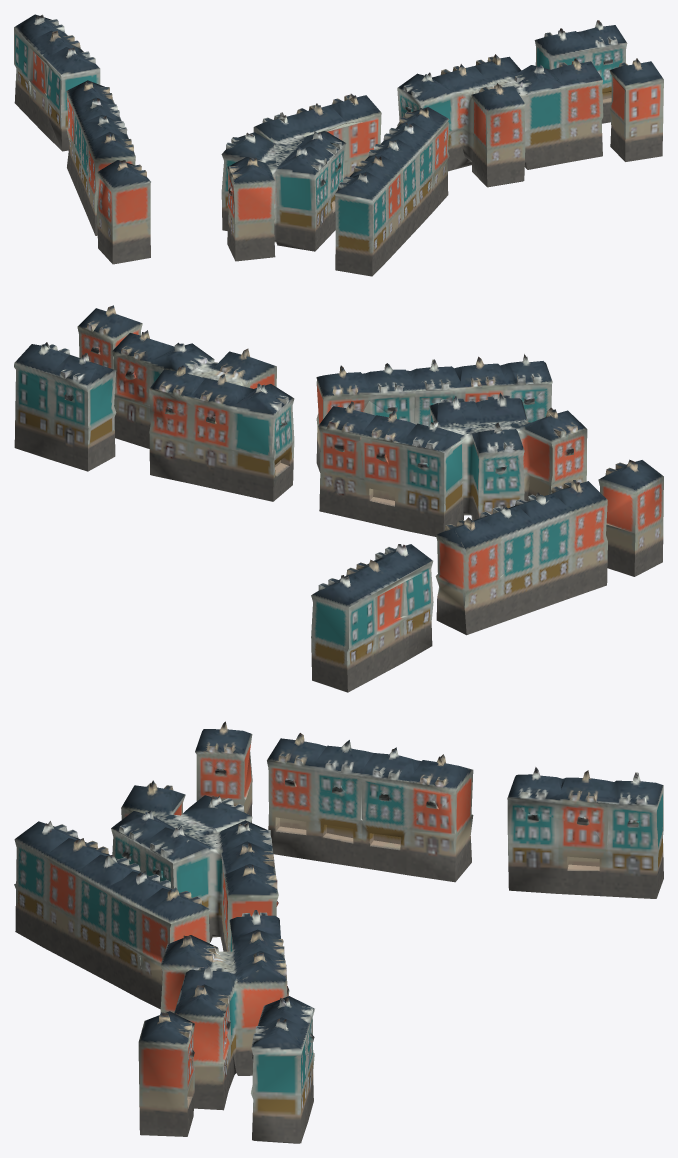
The model's file is clod_town_c03_03_clod001.gltf.
3 renders of one model, top to bottom at view 1: azimuth 30°, elevation 25°; view 2: azimuth 150°, elevation 25°; view 3: azimuth 270°, elevation 25°, orthographic. The views are drawn at different scales.
Visible parts, largest first — view 1: clod_town_c03_03_clod001_000_meshShape:remesh_mat; view 2: clod_town_c03_03_clod001_000_meshShape:remesh_mat; view 3: clod_town_c03_03_clod001_000_meshShape:remesh_mat.
Boxes of the visible parts, left/top/right/bottom form: clod_town_c03_03_clod001_000_meshShape:remesh_mat: left=14, top=14, right=663, bottom=276; clod_town_c03_03_clod001_000_meshShape:remesh_mat: left=14, top=305, right=663, bottom=692; clod_town_c03_03_clod001_000_meshShape:remesh_mat: left=14, top=721, right=663, bottom=1143.
Size of the model in its own units: 151 by 25.22 by 130.
Materials: 1 (1 with a texture image).
